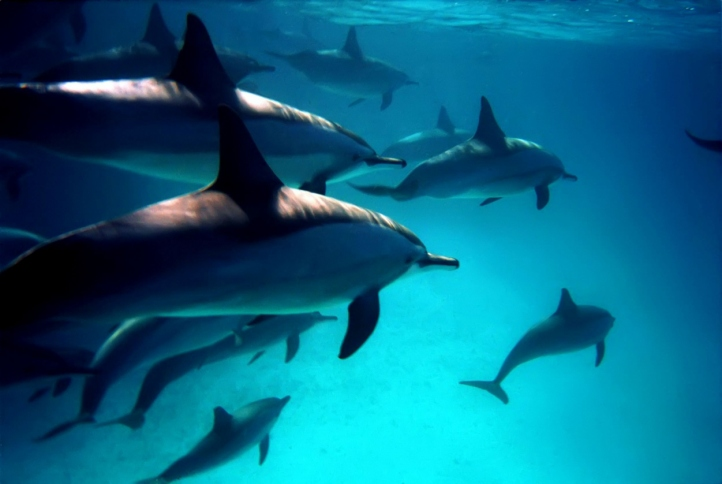dolphin: (1, 132, 491, 348), (373, 95, 596, 210), (449, 282, 623, 408), (149, 393, 303, 483)
